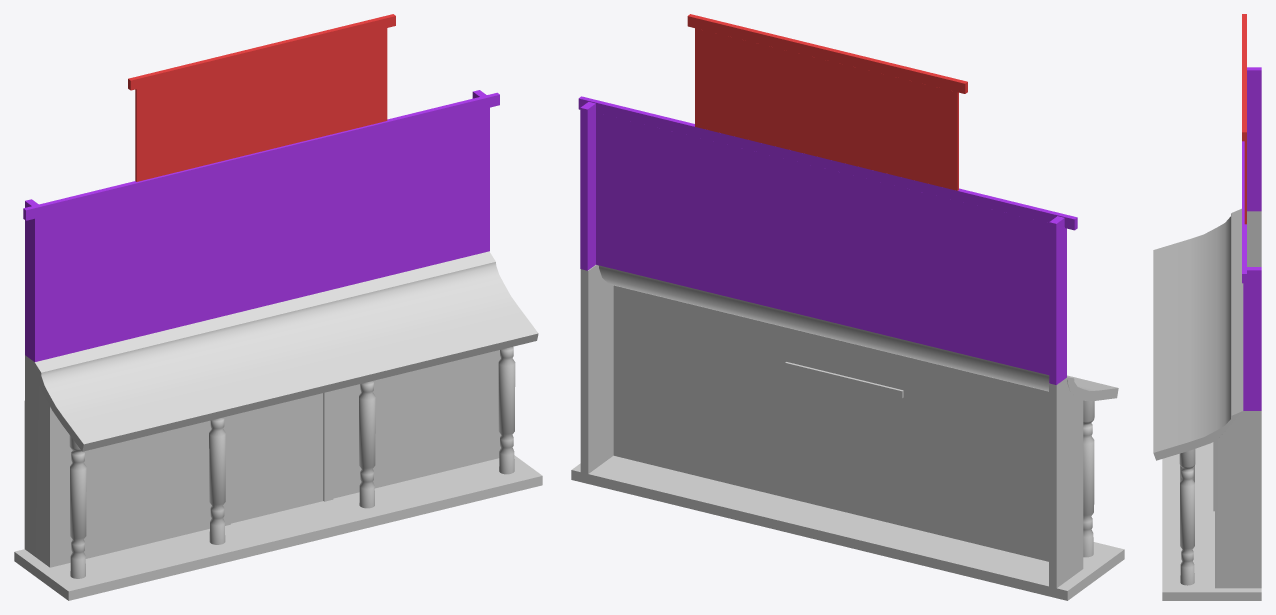
Rendered from FullBuilding.FBX.
3 renders of one model, left to right at view 1: azimuth 30°, elevation 25°; view 2: azimuth 150°, elevation 25°; view 3: azimuth 270°, elevation 25°, orthographic. The views are drawn at different scales.
Visible parts, largest first — view 1: BuildingTopLevel, BuildingBottomLevel, Roof Tiles, BuildingBoard, Pillars; view 2: BuildingBottomLevel, BuildingTopLevel, BuildingBoard, Roof Tiles, Pillars; view 3: Roof Tiles, BuildingBottomLevel, BuildingTopLevel, Pillars, BuildingBoard.
Part boxes in pixels (box(x1,y1,x2,y2)): BuildingTopLevel: box(23, 90, 499, 361); BuildingBottomLevel: box(14, 350, 542, 600); Roof Tiles: box(34, 251, 538, 451); BuildingBoard: box(128, 14, 395, 181); Pillars: box(69, 347, 515, 578); BuildingBottomLevel: box(571, 265, 1124, 600); BuildingTopLevel: box(578, 96, 1077, 384); BuildingBoard: box(687, 14, 967, 190); Roof Tiles: box(598, 265, 1118, 400); Pillars: box(1083, 400, 1094, 557); Roof Tiles: box(1153, 208, 1243, 460); BuildingBottomLevel: box(1162, 211, 1261, 600); BuildingTopLevel: box(1242, 67, 1261, 410); Pillars: box(1179, 449, 1195, 585); BuildingBoard: box(1242, 14, 1246, 224).
Size of the model in its own units: 792 by 736 by 171.
